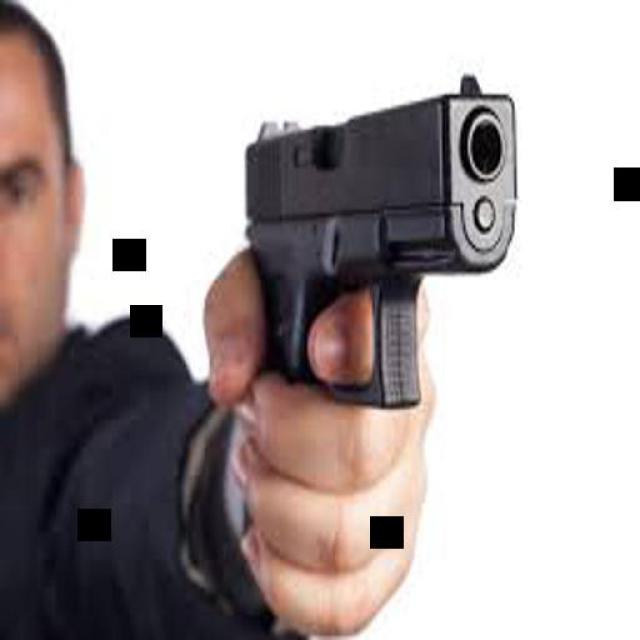gun: (196, 62, 522, 582)
